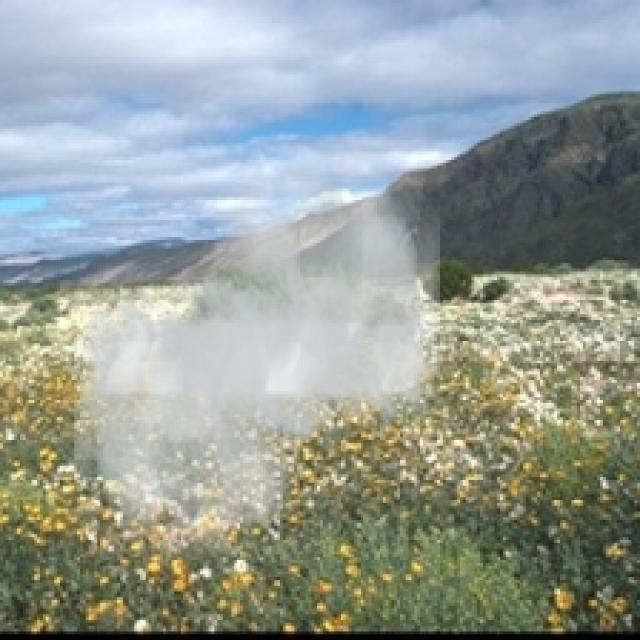Smoke: (74, 151, 440, 566)
